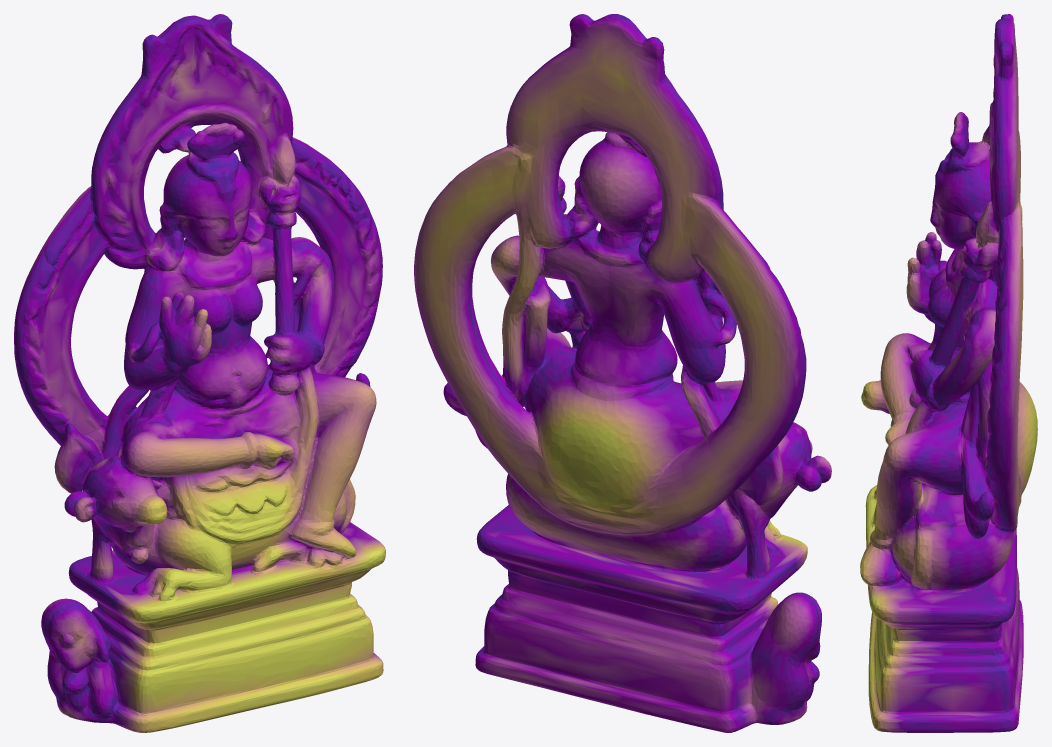
The model's file is iter_17.glb.
3 views of the same model, side by side, from view 1: azimuth 30°, elevation 25°; view 2: azimuth 150°, elevation 25°; view 3: azimuth 270°, elevation 25° (orthographic). The views are drawn at different scales.
Visible parts, largest first — view 1: textured_mesh; view 2: textured_mesh; view 3: textured_mesh.
Part boxes in pixels (<box>): textured_mesh: <box>14,14,385,732</box>; textured_mesh: <box>414,14,831,732</box>; textured_mesh: <box>860,14,1037,732</box>.
Size of the model in its own units: 1.18 by 1.99 by 0.494.
